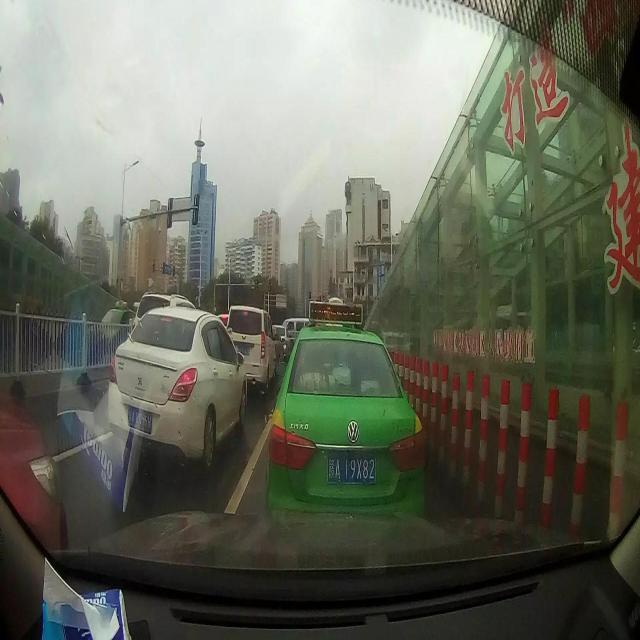car: (264, 300, 424, 518), (108, 306, 248, 469), (0, 389, 69, 555), (226, 304, 276, 389), (134, 292, 196, 332), (100, 306, 134, 336), (274, 321, 289, 357)
